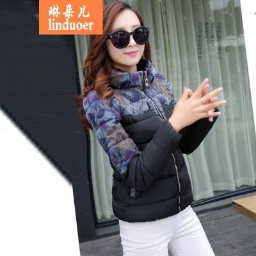face: (84, 2, 156, 85)
